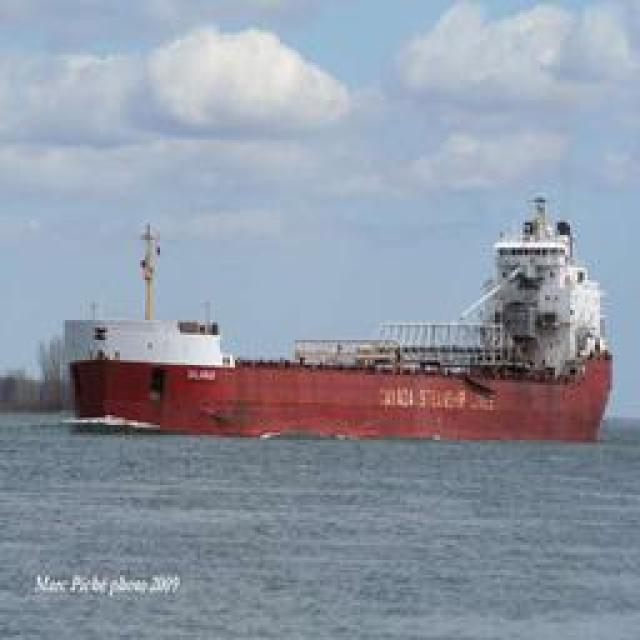CIV_Ship: (70, 184, 620, 444)
